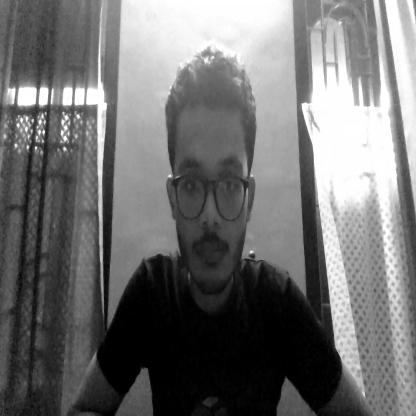Normal: (166, 41, 253, 293)
